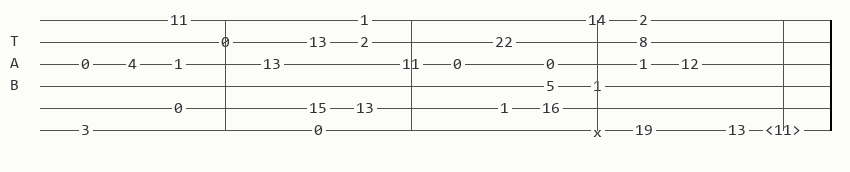0: (81, 57, 94, 71), (174, 101, 187, 115), (221, 35, 234, 49), (314, 123, 327, 137), (453, 57, 466, 71), (546, 57, 559, 71)
1: (174, 57, 187, 71), (360, 13, 373, 27), (500, 101, 513, 115), (593, 79, 606, 93), (639, 57, 652, 71)
11: (170, 13, 192, 27), (402, 57, 424, 71)
12: (681, 57, 703, 71)
13: (263, 57, 285, 71), (309, 35, 331, 49), (356, 101, 378, 115), (728, 123, 750, 137)
14: (588, 13, 610, 27)
15: (309, 101, 331, 115)
16: (542, 101, 564, 115)
19: (635, 123, 657, 137)
2: (360, 35, 373, 49), (639, 13, 652, 27)
22: (495, 35, 517, 49)
3: (81, 123, 94, 137)
4: (128, 57, 141, 71)
5: (546, 79, 559, 93)
8: (639, 35, 652, 49)
harmonic: (765, 123, 805, 137)
x: (593, 125, 606, 136)
